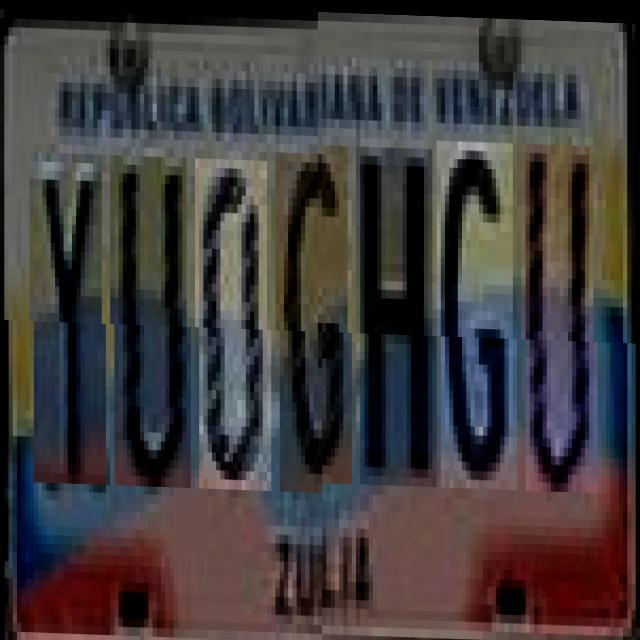0: (199, 157, 271, 488)
G: (440, 146, 518, 495), (280, 150, 352, 490)
H: (360, 152, 437, 492)
U: (114, 154, 191, 486), (526, 148, 598, 498)
Y: (34, 152, 106, 483)
